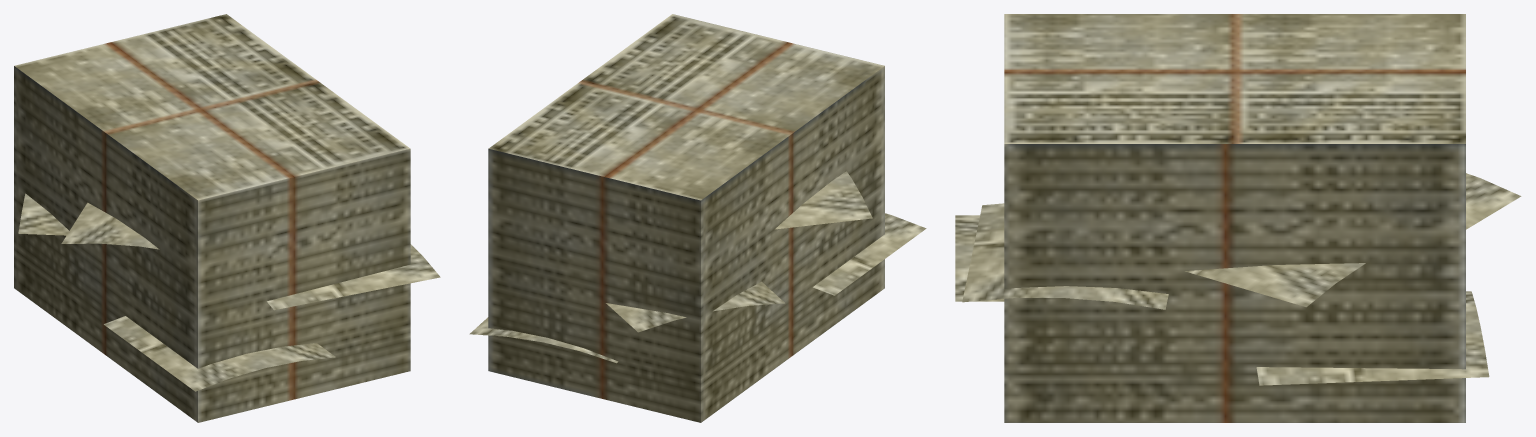
File: newpapers_lot.FBX
3 views of the same model, side by side, from view 1: azimuth 30°, elevation 25°; view 2: azimuth 150°, elevation 25°; view 3: azimuth 270°, elevation 25° (orthographic). The views are drawn at different scales.
Visible parts, largest first — view 1: newspapers lot_box; view 2: newspapers lot_box; view 3: newspapers lot_box.
Boxes of the visible parts, bbox=[...] form: newspapers lot_box: bbox=[14, 14, 440, 422]; newspapers lot_box: bbox=[469, 14, 926, 422]; newspapers lot_box: bbox=[955, 14, 1521, 422].
Bounding box in the file's own units: 31.44 × 20 × 36.79.
Materials: 1 (1 with a texture image).
